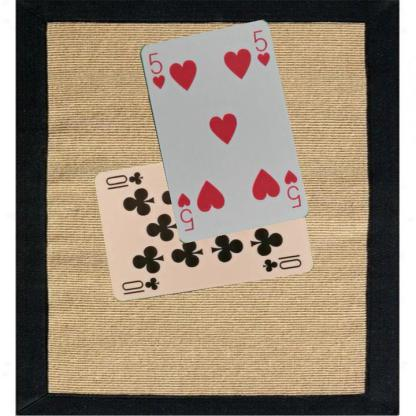10c: (118, 274, 160, 296)
5h: (281, 167, 302, 210), (146, 49, 166, 90)
